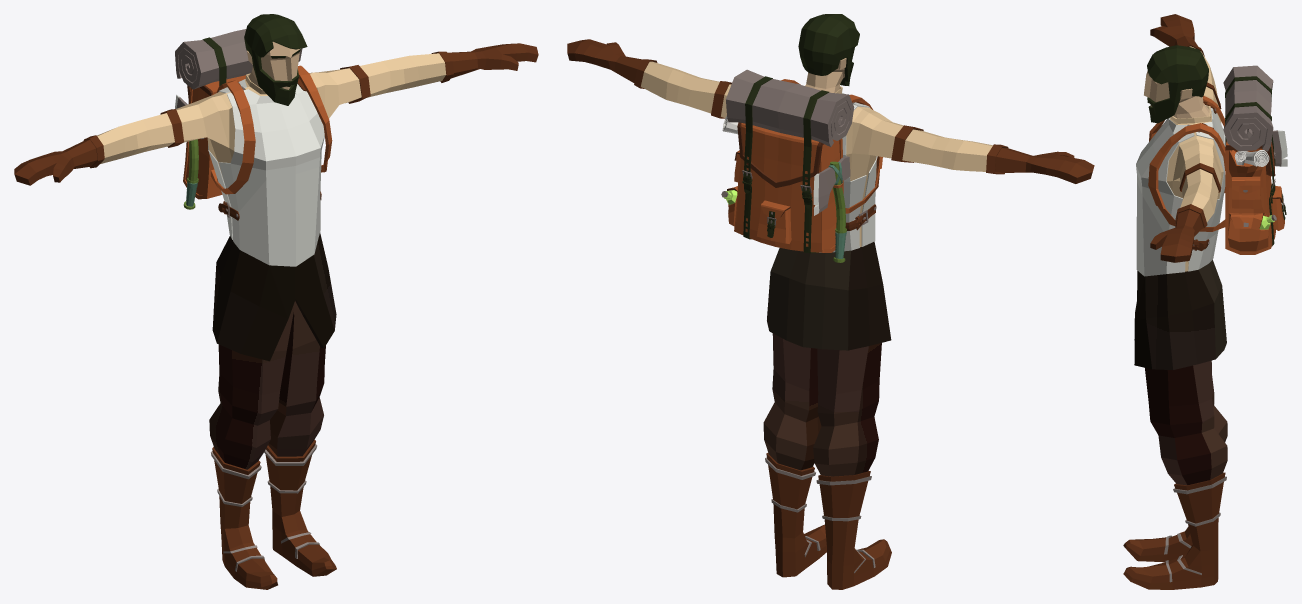
The picture shows the model from 3 angles, left to right: view 1: azimuth 30°, elevation 25°; view 2: azimuth 150°, elevation 25°; view 3: azimuth 270°, elevation 25°; orthographic projection. The views are drawn at different scales.
Visible parts, largest first — view 1: MainMesh, Backpack.001, Hair/Beard; view 2: MainMesh, Backpack.001, Hair/Beard; view 3: MainMesh, Backpack.001, Hair/Beard.
Part boxes in pixels (bbox=[...]): MainMesh: bbox=[14, 41, 538, 589]; Backpack.001: bbox=[175, 29, 332, 209]; Hair/Beard: bbox=[244, 14, 307, 105]; MainMesh: bbox=[567, 39, 1094, 589]; Backpack.001: bbox=[721, 69, 882, 262]; Hair/Beard: bbox=[798, 14, 859, 85]; MainMesh: bbox=[1123, 14, 1227, 589]; Backpack.001: bbox=[1148, 65, 1287, 254]; Hair/Beard: bbox=[1147, 45, 1208, 123].
Size of the model in its own units: 177 by 178 by 50.73.
Materials: 1 (1 with a texture image).
